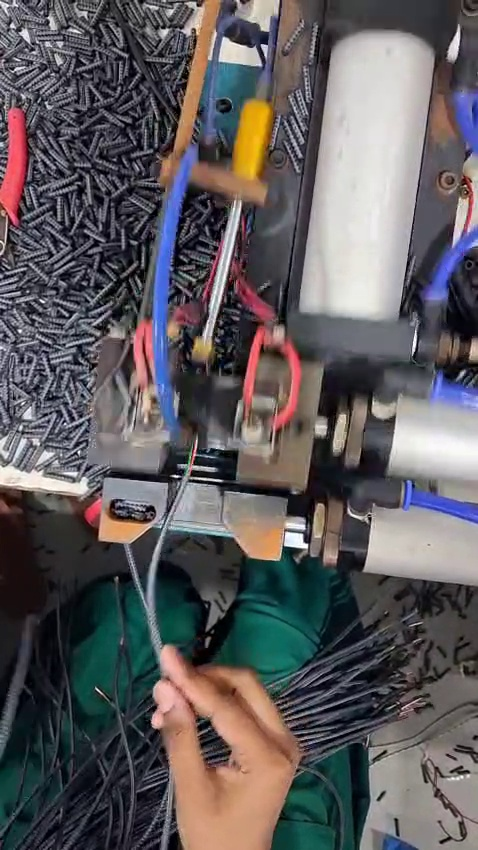machine: (62, 303, 349, 516)
peeled_wire: (157, 413, 225, 516)
